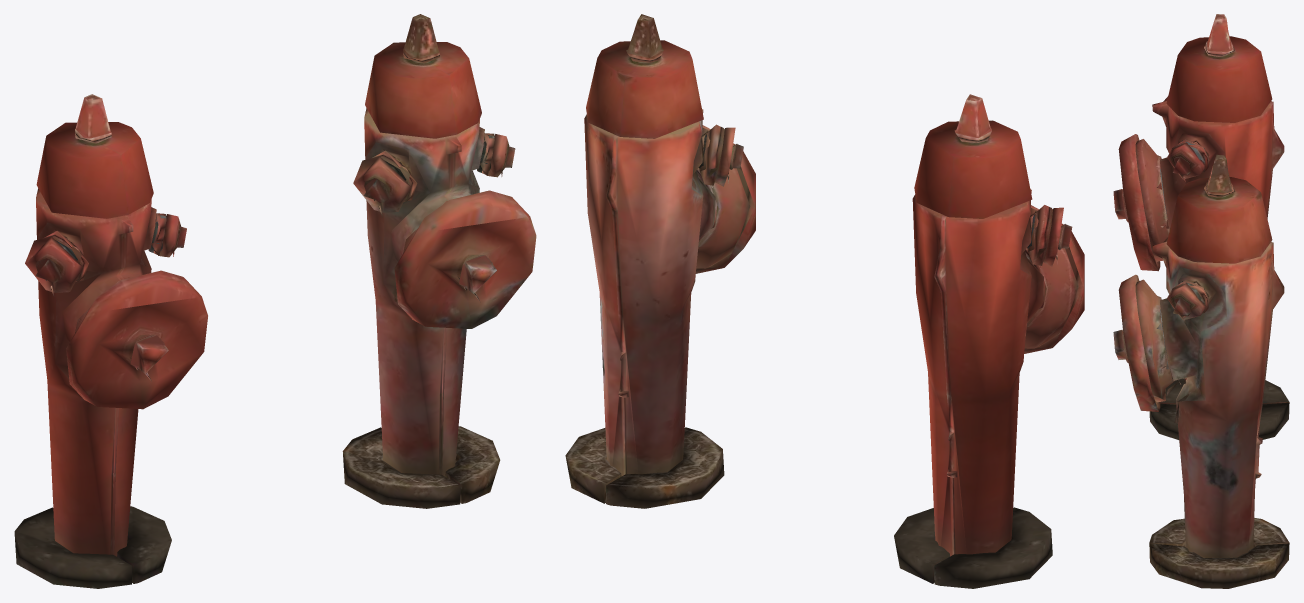
File: fire_hydrant.glb
3 views of the same model, side by side, from view 1: azimuth 30°, elevation 25°; view 2: azimuth 150°, elevation 25°; view 3: azimuth 270°, elevation 25° (orthographic). The views are drawn at different scales.
Parts seen in each view (by area): view 1: fire_hydrant_aged, fire_hydrant; view 2: fire_hydrant, fire_hydrant_aged; view 3: fire_hydrant_aged, fire_hydrant.
Boxes of the visible parts, box(x1,y1,x2,y2) form: fire_hydrant_aged: box(342, 14, 536, 508); fire_hydrant: box(14, 94, 207, 588); fire_hydrant: box(894, 94, 1084, 588); fire_hydrant_aged: box(565, 14, 755, 508); fire_hydrant_aged: box(1113, 154, 1289, 588); fire_hydrant: box(1113, 14, 1289, 439).
Size of the model in its own units: 0.8729 by 0.7992 by 0.3173.
Materials: 2 (2 with a texture image).
